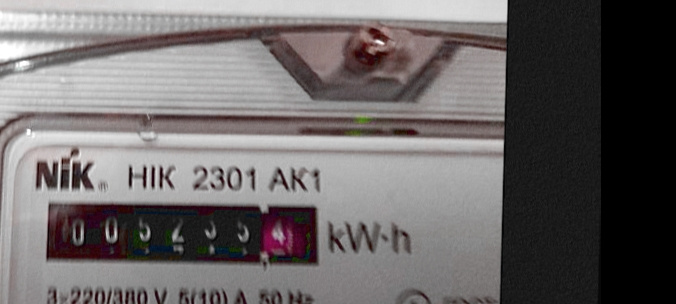0: (103, 212, 124, 246), (71, 215, 90, 247)
2: (169, 211, 191, 245)
3: (201, 210, 226, 243)
4: (270, 211, 293, 248)
5: (235, 210, 258, 246), (137, 211, 157, 244)
screen: (31, 185, 335, 280)
